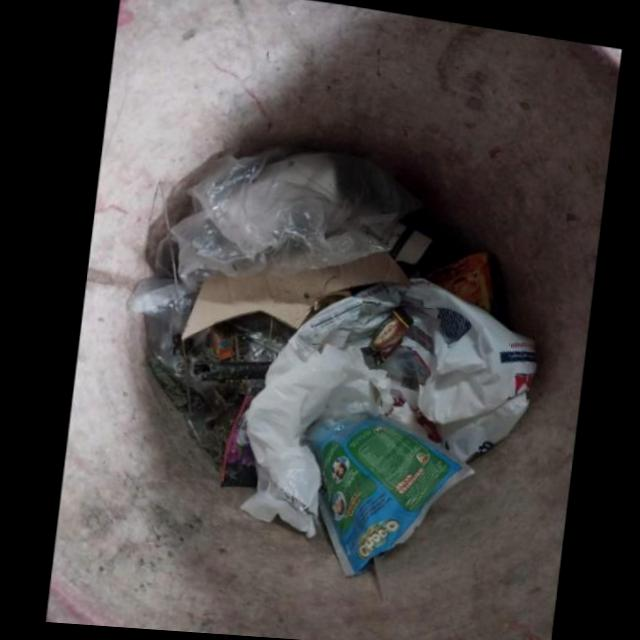bao_bi_thuc_pham: (414, 243, 503, 316), (356, 298, 408, 358)
carton: (178, 245, 404, 335)
goi_nhua_nho: (297, 405, 471, 571), (217, 382, 260, 483)
tui_ni_long: (239, 276, 533, 532), (140, 141, 417, 293)
